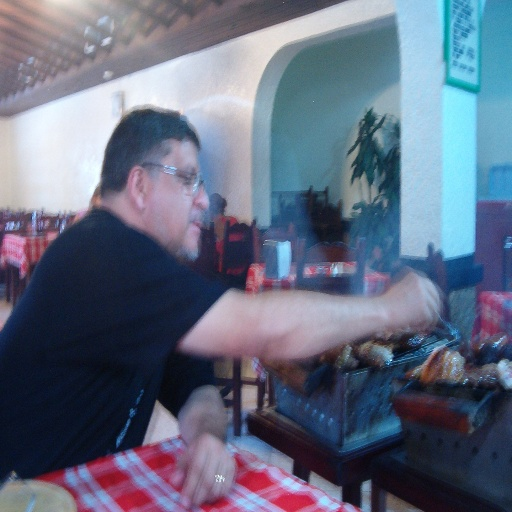hand: (166, 433, 234, 510), (390, 272, 441, 327)
